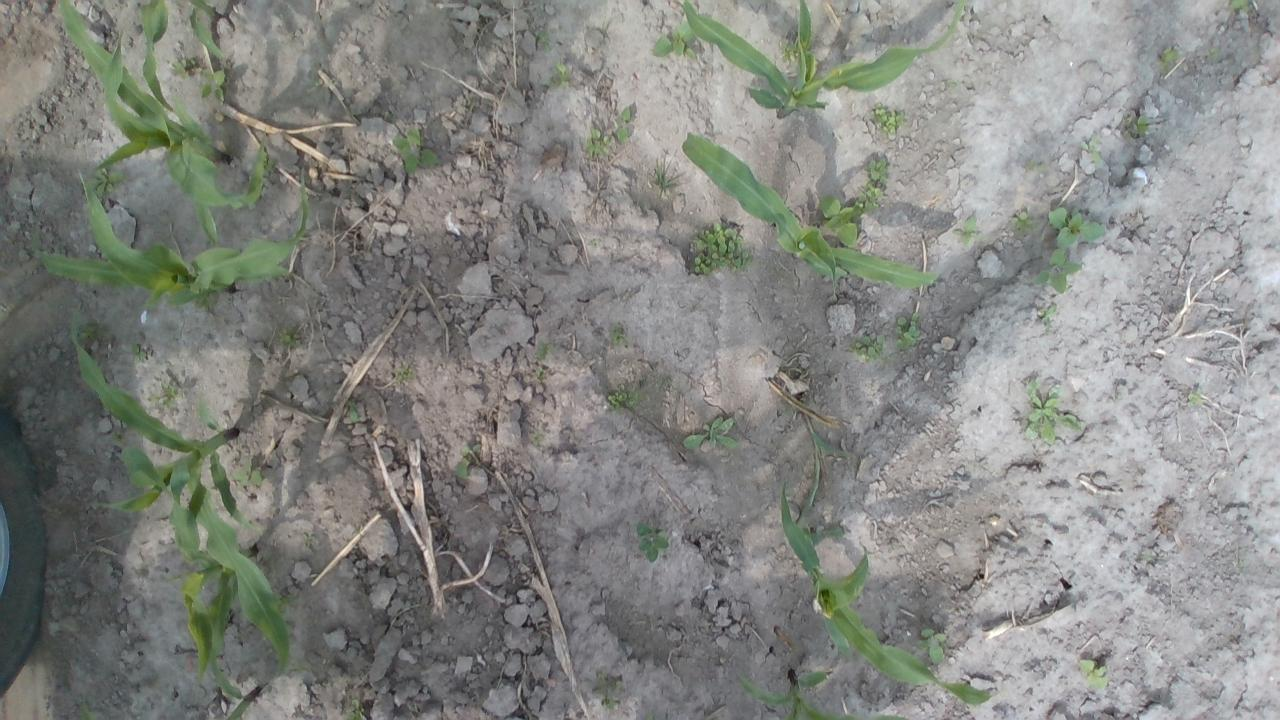Maize: (65, 306, 290, 670), (48, 0, 268, 240), (778, 482, 1004, 706), (682, 131, 942, 287), (35, 170, 310, 307), (682, 0, 968, 117), (171, 456, 262, 682), (734, 663, 906, 720), (802, 414, 848, 516), (138, 0, 179, 112), (204, 656, 266, 720), (188, 0, 234, 60)
Weeds: (1015, 376, 1081, 443), (690, 221, 754, 272), (1046, 208, 1106, 248), (818, 195, 862, 246), (1038, 248, 1087, 292), (684, 415, 739, 452), (394, 124, 438, 170), (653, 20, 698, 58), (636, 523, 670, 561), (862, 164, 890, 209), (916, 629, 949, 666), (654, 152, 682, 194), (894, 312, 924, 346), (232, 455, 262, 489), (953, 211, 980, 248), (1079, 659, 1109, 690), (850, 333, 884, 360), (200, 69, 227, 102), (144, 384, 178, 409), (871, 106, 905, 131), (456, 443, 481, 474), (92, 171, 124, 194), (586, 130, 610, 157), (1082, 134, 1102, 165), (550, 62, 570, 92), (780, 34, 800, 64), (1156, 45, 1178, 72), (592, 674, 622, 693), (1038, 302, 1058, 328), (618, 107, 632, 143), (173, 58, 198, 78), (1126, 117, 1148, 138), (1012, 210, 1032, 232), (607, 392, 632, 408), (1226, 0, 1250, 13), (599, 696, 620, 710), (1024, 158, 1044, 172), (347, 704, 363, 720), (536, 342, 550, 360), (1186, 391, 1202, 406), (134, 344, 146, 363), (348, 403, 362, 419), (398, 366, 413, 380), (612, 328, 626, 342), (278, 330, 292, 344), (83, 322, 97, 336), (538, 32, 552, 46), (531, 430, 544, 444), (534, 367, 548, 380), (589, 238, 603, 249), (278, 596, 290, 608), (1208, 47, 1218, 56)
